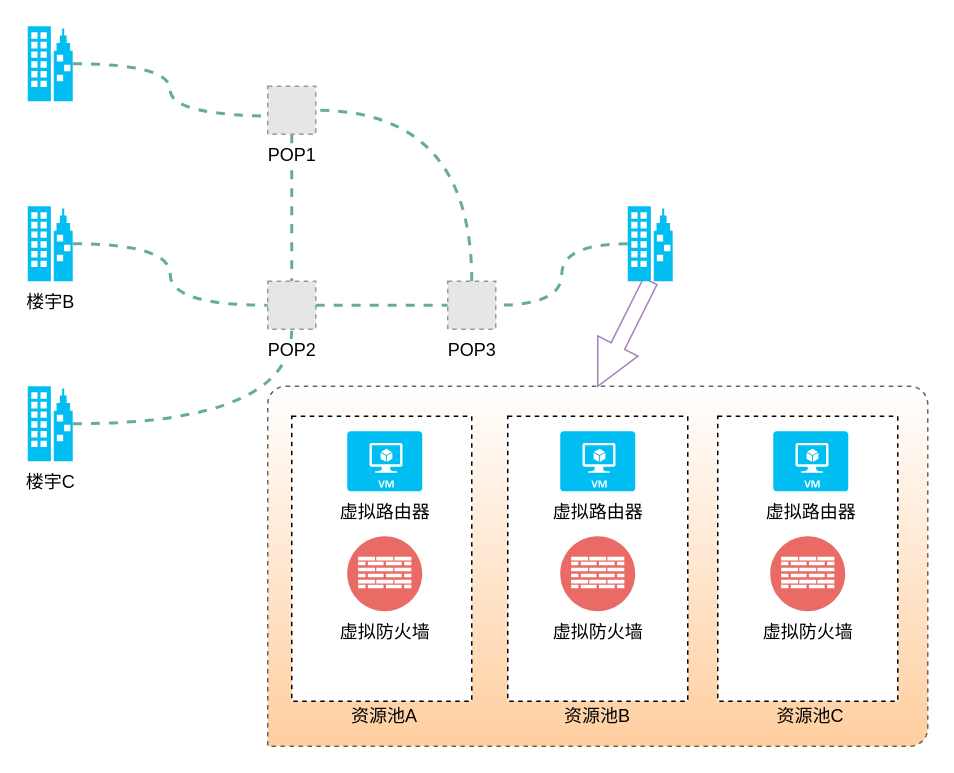
This 954x773 diagram has some shape labels left out. Grey dashed boxes stand in for pictures. Here are the shapes that lost their labels. From the top down, the box of each, then its label:
(27, 26, 72, 100): 楼宇A
(627, 206, 672, 280): 接入云机房
